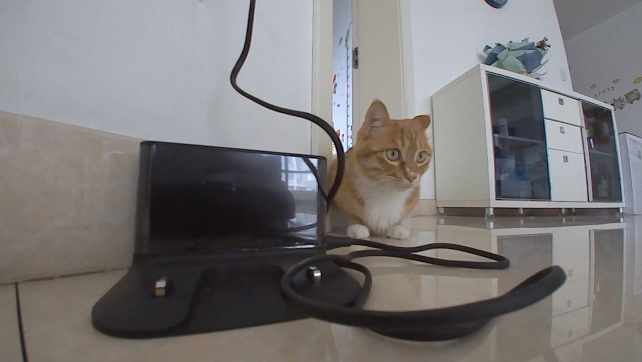cat: (324, 94, 435, 239)
charger: (85, 133, 359, 340)
wire: (277, 235, 567, 346), (229, 0, 352, 208)
